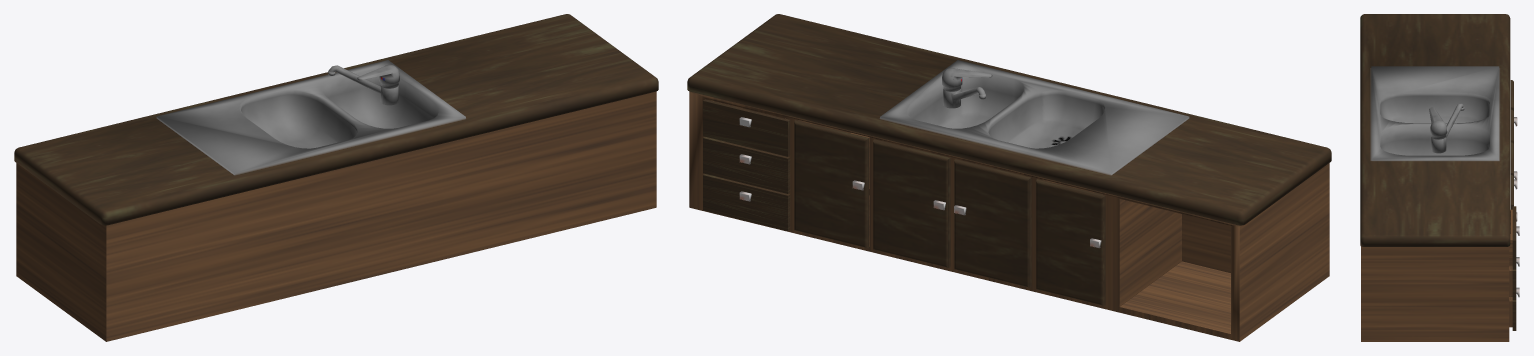
Rendered from KitchenBench1.fbx.
The picture shows the model from 3 angles, left to right: view 1: azimuth 30°, elevation 25°; view 2: azimuth 150°, elevation 25°; view 3: azimuth 270°, elevation 25°; orthographic projection. The views are drawn at different scales.
Visible parts, largest first — view 1: Bench.001, Tap.001; view 2: Bench.001, Door1.006, Door1.007, Door1.004, Door1.005, Drawer1.001, Drawer2.001, Drawer3.001, Tap.001; view 3: Bench.001, Tap.001, Drawer1.001, Drawer2.001, Drawer3.001, Door1.006, Door1.007, Door1.004, Door1.005.
Part boxes in pixels (box(x1,y1,x2,y2)): Bench.001: box(14, 14, 658, 341); Tap.001: box(328, 64, 399, 105); Bench.001: box(687, 14, 1331, 341); Door1.006: box(873, 139, 950, 267); Door1.007: box(954, 159, 1031, 287); Door1.004: box(794, 120, 869, 247); Door1.005: box(1036, 179, 1105, 305); Drawer1.001: box(703, 99, 790, 156); Drawer2.001: box(703, 137, 790, 193); Drawer3.001: box(703, 174, 790, 230); Tap.001: box(942, 68, 992, 108); Bench.001: box(1360, 14, 1510, 341); Tap.001: box(1429, 103, 1464, 153); Drawer1.001: box(1509, 206, 1519, 269); Drawer2.001: box(1509, 257, 1519, 300); Drawer3.001: box(1509, 287, 1519, 330); Door1.006: box(1510, 142, 1517, 189); Door1.007: box(1510, 109, 1517, 179); Door1.004: box(1510, 175, 1517, 221); Door1.005: box(1510, 80, 1517, 126).
Bounding box in the file's own units: 603 × 167 × 182.
